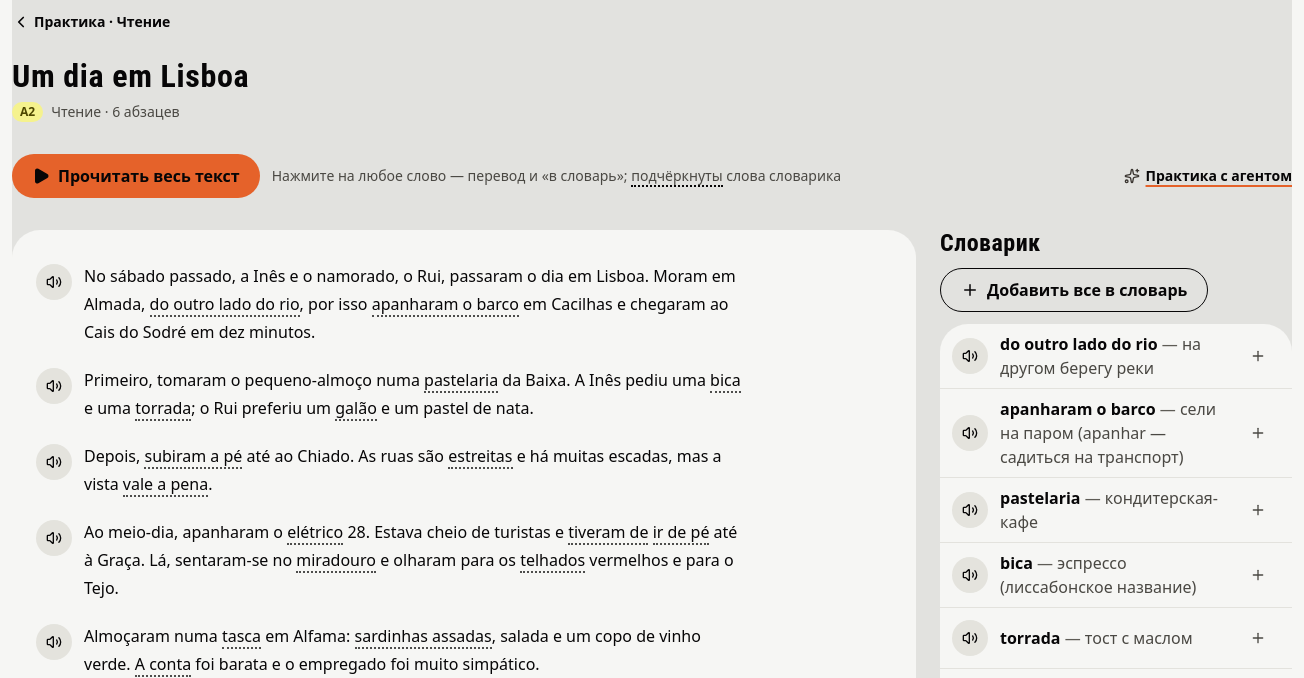
Scenario: ReadingPage › «Прочитать весь текст» plays paragraphs in order; «Остановить» stops
Step 1. Click the button "Прочитать весь текст" → (136, 176), box [12, 154, 260, 198]
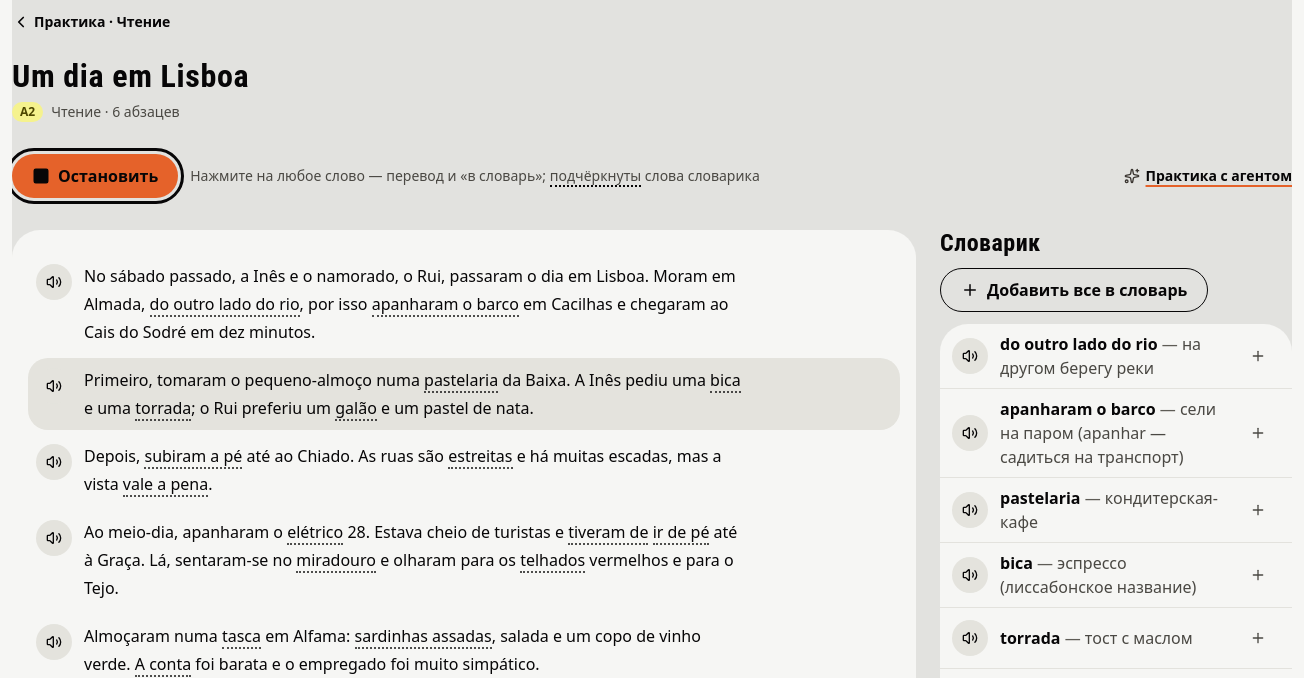
Step 2. Click the button "Остановить" → (95, 176), box [12, 154, 178, 198]
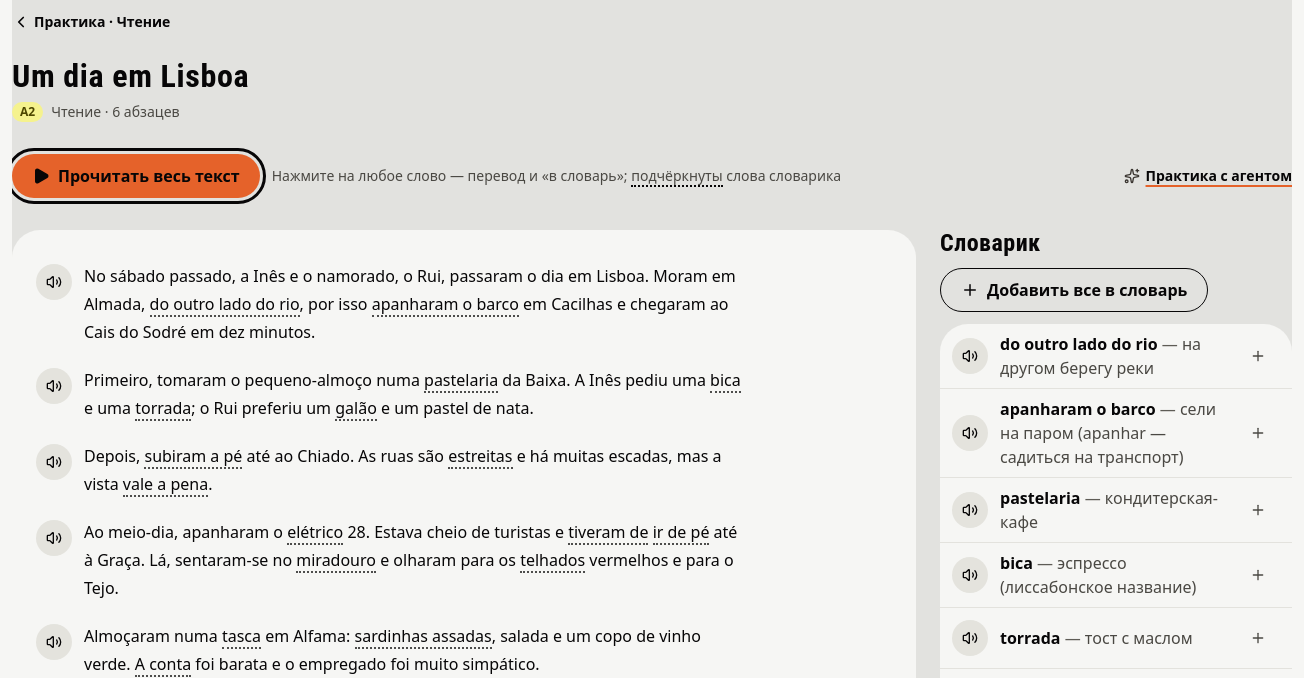
Result: the button "Прочитать весь текст" is shown at [12, 154, 260, 198]
